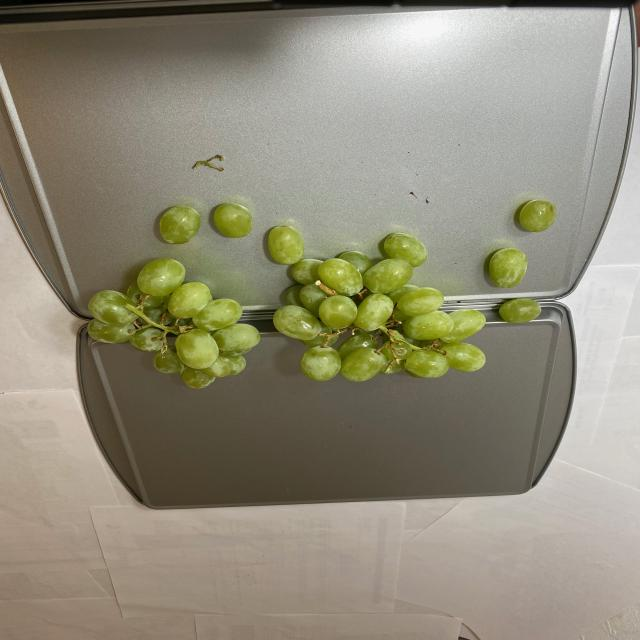grapes: (87, 194, 557, 387)
